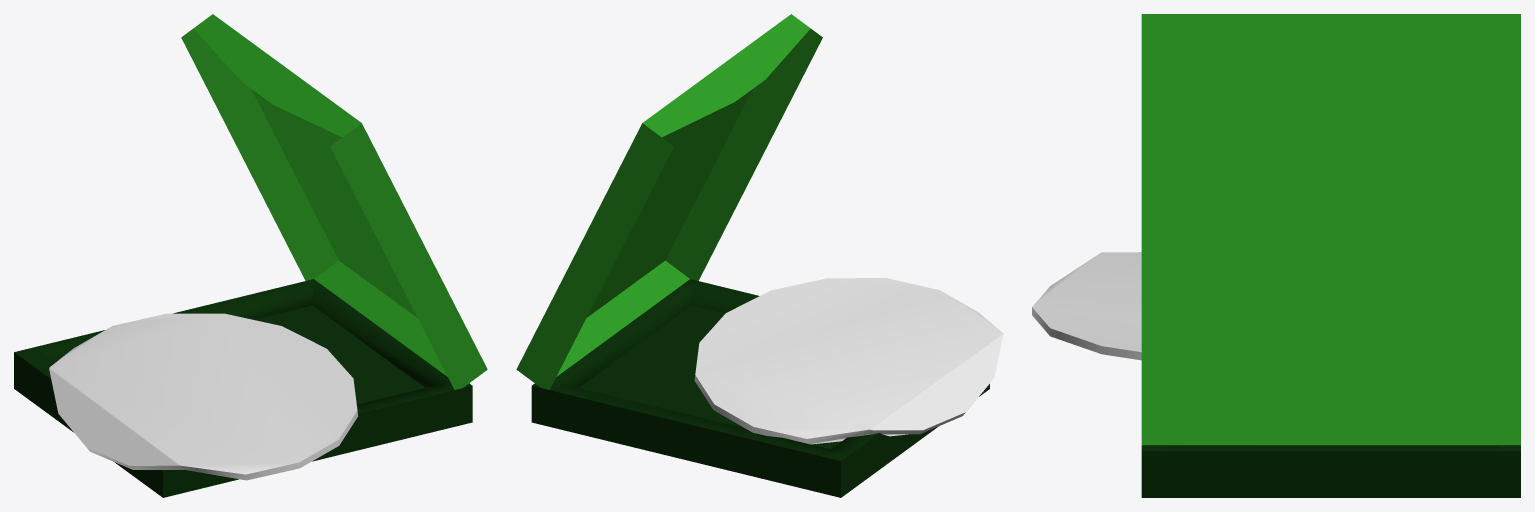
Rendered from powerup_cajaZ1aversion.FBX.
3 views of the same model, side by side, from view 1: azimuth 30°, elevation 25°; view 2: azimuth 150°, elevation 25°; view 3: azimuth 270°, elevation 25° (orthographic). The views are drawn at different scales.
Visible parts, largest first — view 1: pizza, cajasuperior, cajainferior; view 2: pizza, cajasuperior, cajainferior; view 3: cajasuperior, cajainferior, pizza.
Part boxes in pixels (x1,y1,x2,y2): pizza: [49, 313, 357, 480]; cajasuperior: [181, 14, 487, 389]; cajainferior: [14, 279, 472, 497]; pizza: [694, 278, 1003, 444]; cajasuperior: [516, 14, 822, 389]; cajainferior: [531, 279, 989, 497]; cajasuperior: [1141, 14, 1520, 445]; cajainferior: [1141, 445, 1520, 497]; pizza: [1032, 252, 1141, 360].
Bounding box in the file's own units: 26.29 × 23.37 × 24.93.
